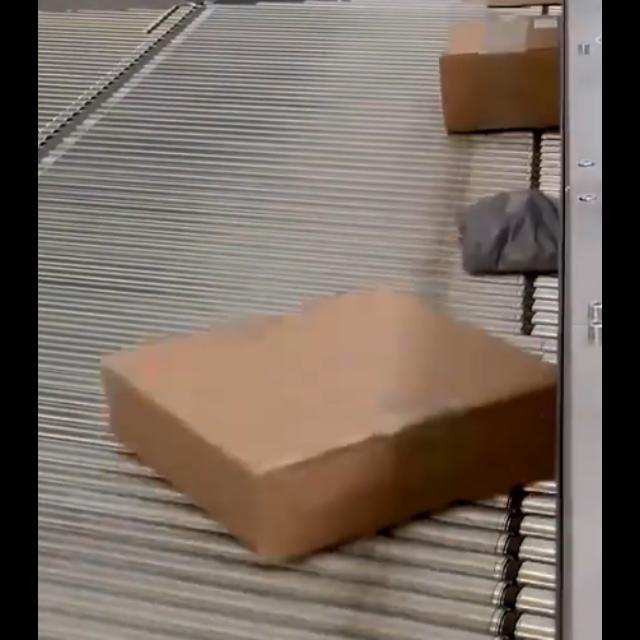box: (99, 285, 555, 569), (443, 15, 567, 137)
mailer: (457, 192, 565, 274)
